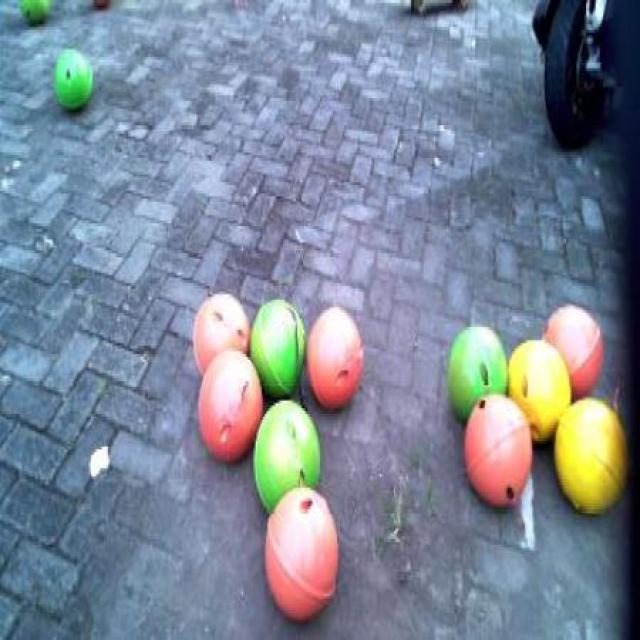buoy: (257, 487, 340, 624), (553, 384, 626, 518), (462, 384, 538, 512), (190, 348, 265, 476), (250, 392, 322, 510), (507, 331, 570, 446), (306, 300, 365, 421), (244, 291, 308, 397), (446, 314, 508, 418), (188, 286, 251, 381), (545, 298, 603, 390), (52, 45, 93, 113), (19, 0, 49, 27)
